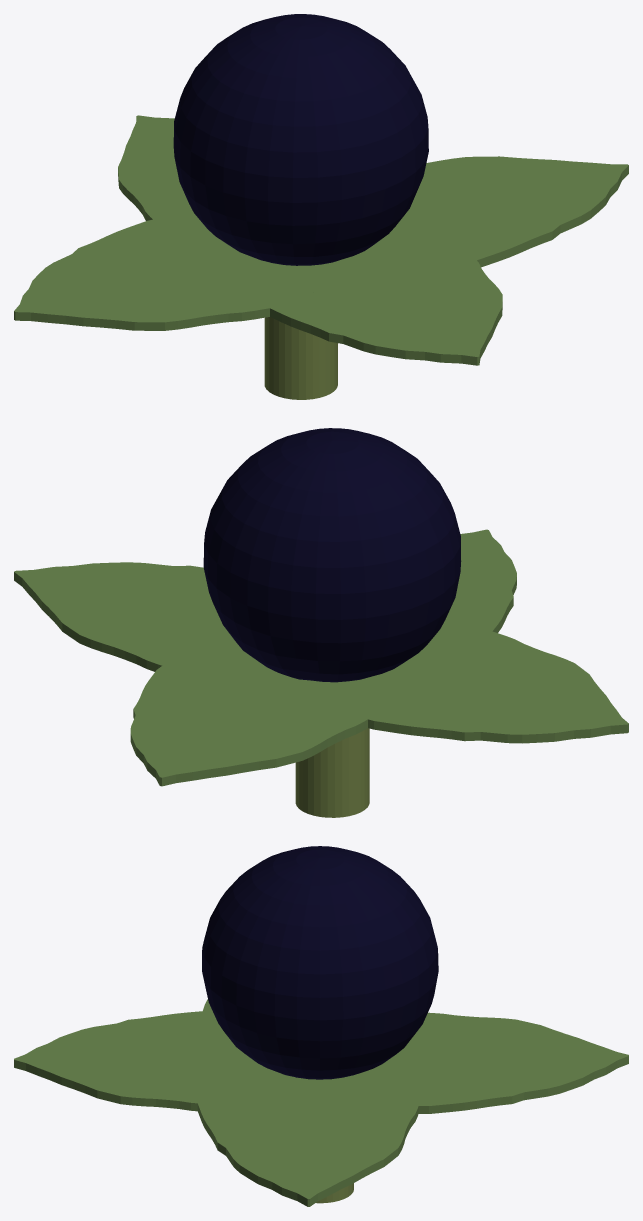
Rendered from Belladonna.fbx.
3 renders of one model, top to bottom at view 1: azimuth 30°, elevation 25°; view 2: azimuth 150°, elevation 25°; view 3: azimuth 270°, elevation 25°, orthographic. The views are drawn at different scales.
Visible parts, largest first — view 1: Sphere, Cube, Cube.003, Cube.002, Cube.001, Cylinder; view 2: Sphere, Cube.001, Cube, Cube.002, Cylinder, Cube.003; view 3: Sphere, Cube.002, Cube.003, Cube.001.
Part boxes in pixels (x1,y1,x2,y2): Sphere: (173,14,428,265); Cube: (14,219,317,330); Cube.003: (270,233,502,365); Cube.002: (384,156,628,267); Cube.001: (118,115,223,241); Cylinder: (264,317,337,399); Sphere: (203,428,461,682); Cube.001: (130,653,392,786); Cube: (331,622,628,743); Cube.002: (14,562,266,678); Cylinder: (295,728,369,817); Cube.003: (444,529,516,632); Sphere: (202,846,438,1079); Cube.002: (197,1074,422,1206); Cube.003: (14,1011,283,1111); Cube.001: (356,1012,628,1113).
Bounding box in the file's own units: 94.59 × 53 × 89.15.
